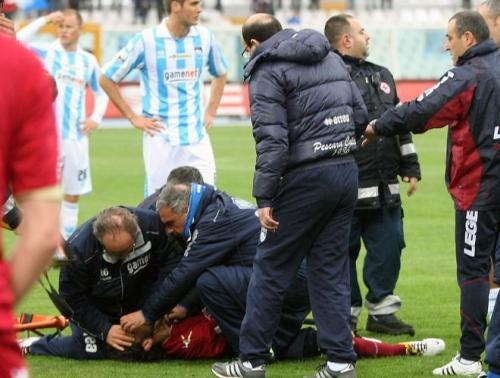falling: (22, 290, 219, 369)
